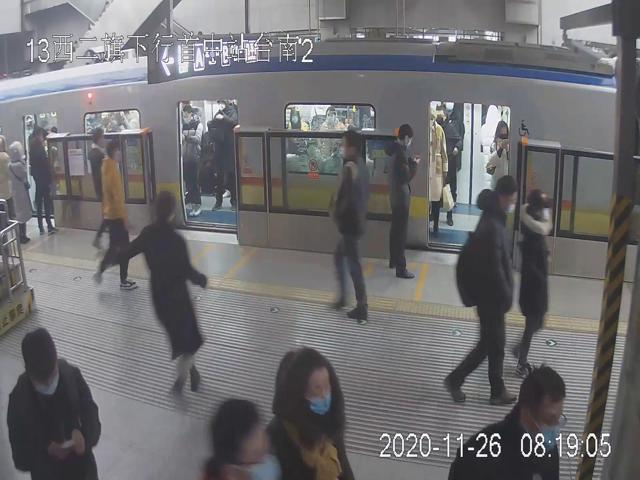person: (446, 176, 519, 404), (330, 130, 376, 320), (515, 186, 555, 379), (96, 140, 139, 293), (384, 123, 418, 280), (30, 126, 57, 234), (9, 141, 32, 241)
